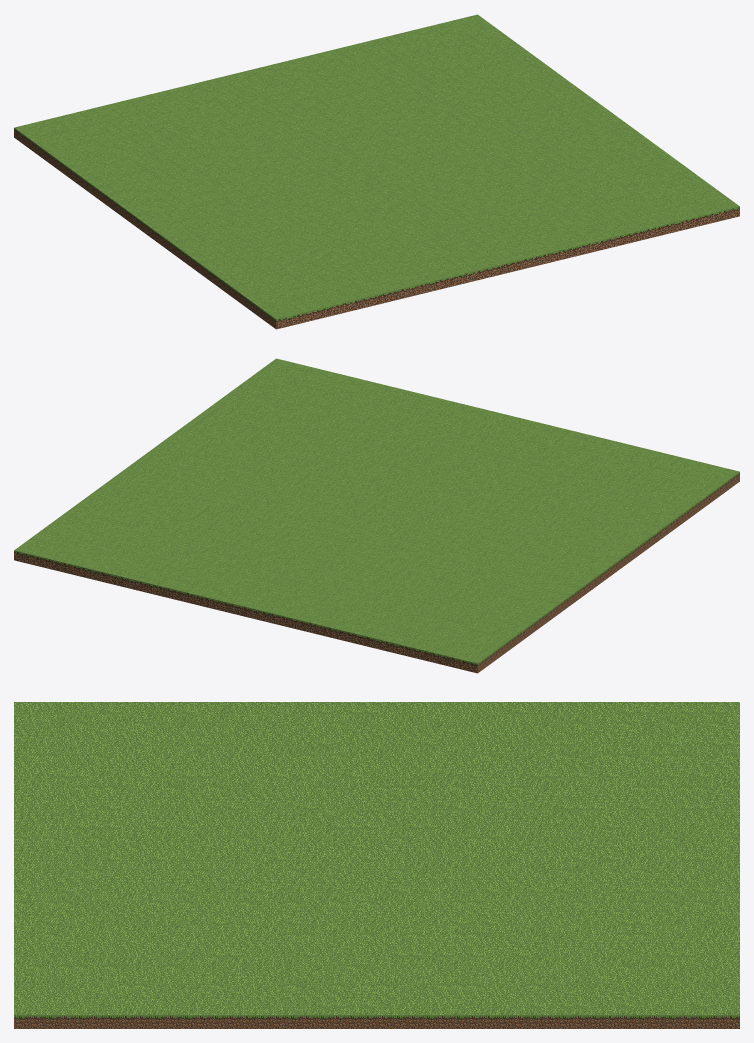
File: aaa.obj
3 views of the same model, one above another, from view 1: azimuth 30°, elevation 25°; view 2: azimuth 150°, elevation 25°; view 3: azimuth 270°, elevation 25° (orthographic). The views are drawn at different scales.
Parts seen in each view (by area): view 1: Map_Art__102_-61_-134_to_150_319_-87; view 2: Map_Art__102_-61_-134_to_150_319_-87; view 3: Map_Art__102_-61_-134_to_150_319_-87.
Part boxes in pixels (box(x1,y1,x2,y2)): Map_Art__102_-61_-134_to_150_319_-87: box(14, 14, 739, 329); Map_Art__102_-61_-134_to_150_319_-87: box(14, 358, 739, 673); Map_Art__102_-61_-134_to_150_319_-87: box(14, 702, 739, 1028).
Size of the model in its own units: 49 by 1 by 48.
Materials: 3 (3 with a texture image).
